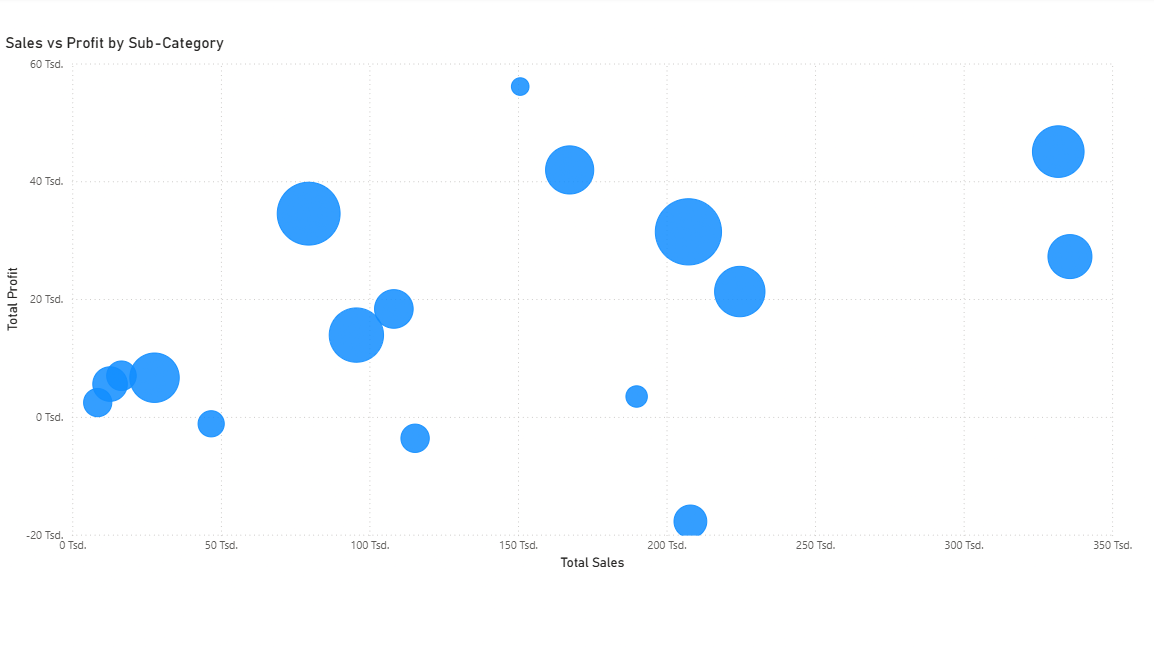

The page's visual inventory and layout, read from the dashboard file:
{"tool":"powerbi","page":{"name":"Seite 5","canvas":[1280,720],"ordinal":4},"visuals":[{"type":"scatterChart","title":"Sales vs Profit by Sub-Category","fields":{"X":["Orders.Total Sales"],"Y":["Orders.Total Profit"],"Category":["Orders.Sub-Category"],"Size":["CountNonNull(Orders.Quantity)"]},"box":[9.6,41.2,1247.3,594.2],"z":0}]}

Visuals, with their boxes in screenshot pixels (x1, y1, x2, y2), scaled from the page's 1280x720 canvas onto the 1154x648 screenshot:
"Sales vs Profit by Sub-Category" scatterChart: bbox(9, 37, 1133, 572)
